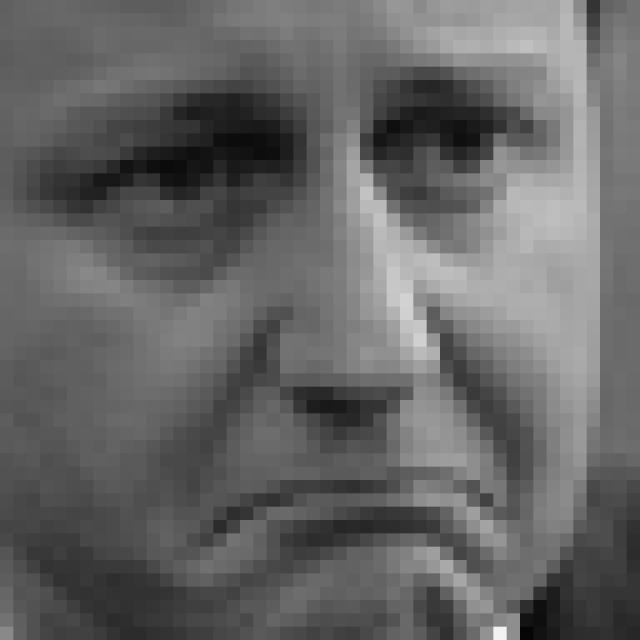sad: (26, 32, 571, 622)
